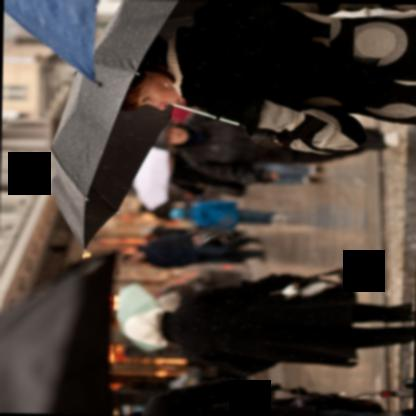handbag: (300, 265, 380, 288), (298, 280, 357, 299)
